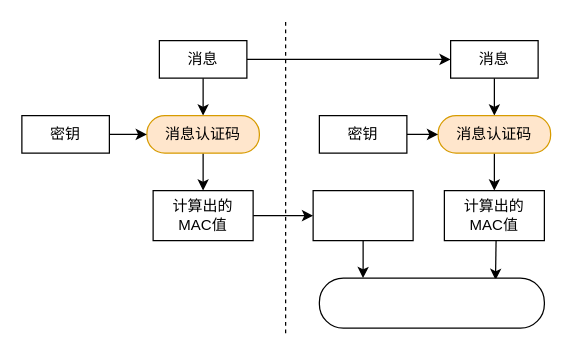
Some shapes in this 573 by 356 pixel diagram are drawn without their labels. Here are the shapes that lost their labels. From the top down, the centre of each, then its label:
At [362,215]: "接收到的 MAC值".
At [431,302]: "将两者进行对比，如果一致则认证成功".
